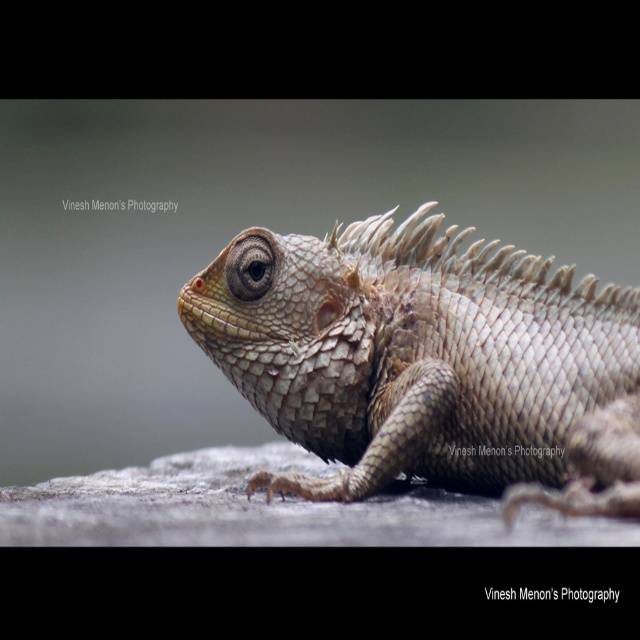Lizard: (192, 187, 640, 515)
